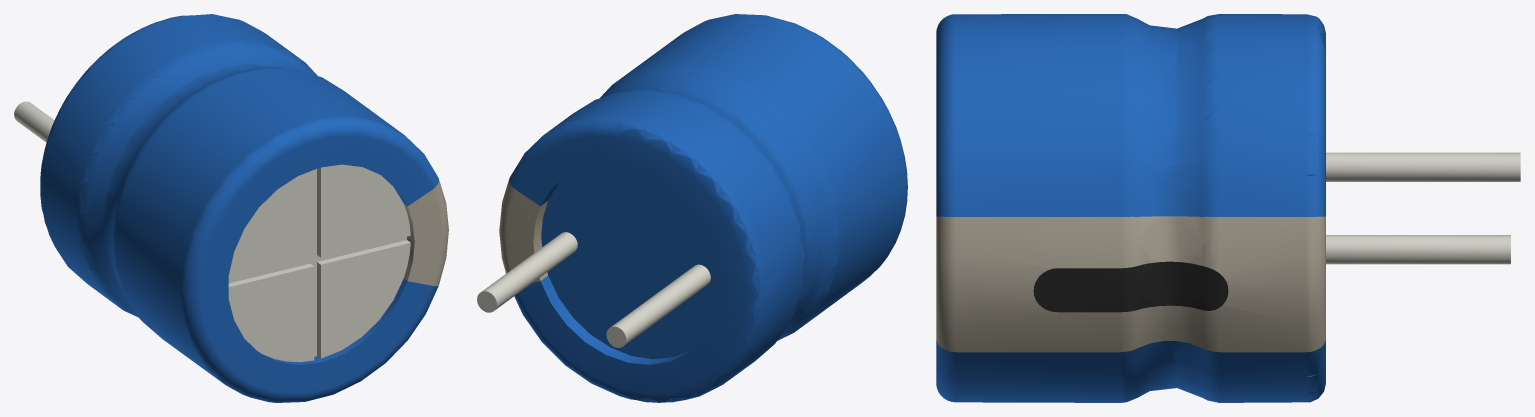
Rendered from cp-radial-d4.0-p2.00.glb.
3 renders of one model, left to right at view 1: azimuth 30°, elevation 25°; view 2: azimuth 150°, elevation 25°; view 3: azimuth 270°, elevation 25°, orthographic. The views are drawn at different scales.
Visible parts, largest first — view 1: PLASTIC-BLUE-01, PIN-01, IC-LABEL-01; view 2: PLASTIC-BLUE-01, PIN-01, IC-LABEL-01; view 3: PLASTIC-BLUE-01, IC-LABEL-01, PIN-01, IC-BODY-EPOXY-04.
Part boxes in pixels (bbox=[...]): PLASTIC-BLUE-01: bbox=[40, 14, 438, 402]; PIN-01: bbox=[14, 101, 410, 362]; IC-LABEL-01: bbox=[404, 180, 448, 286]; PLASTIC-BLUE-01: bbox=[509, 14, 907, 402]; PIN-01: bbox=[477, 232, 710, 347]; IC-LABEL-01: bbox=[499, 179, 547, 282]; PLASTIC-BLUE-01: bbox=[936, 14, 1325, 402]; IC-LABEL-01: bbox=[936, 216, 1325, 352]; PIN-01: bbox=[1326, 152, 1520, 264]; IC-BODY-EPOXY-04: bbox=[1033, 261, 1228, 312].
Bounding box in the file's own units: 4 × 3.99 × 6.
